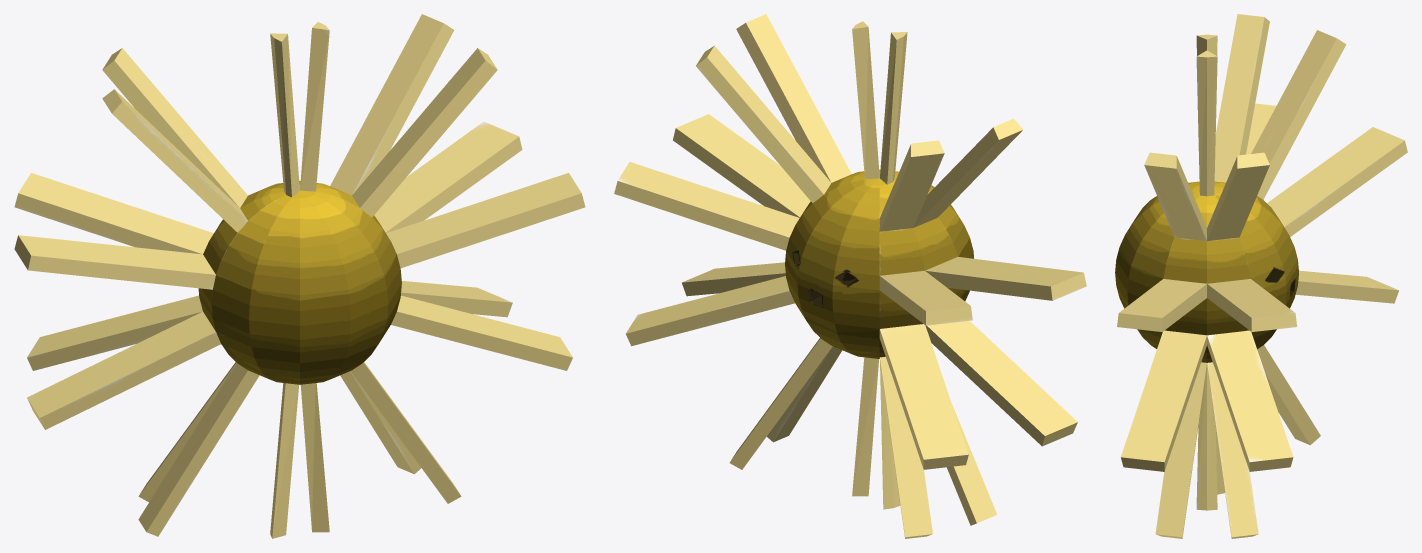
The model's file is center_final_anim.fbx.
3 renders of one model, left to right at view 1: azimuth 30°, elevation 25°; view 2: azimuth 150°, elevation 25°; view 3: azimuth 270°, elevation 25°, orthographic. The views are drawn at different scales.
Parts seen in each view (by area): view 1: pSphere1; view 2: pSphere1; view 3: pSphere1.
Part boxes in pixels (x1=…): pSphere1: x1=14, y1=14, x2=585, y2=538; pSphere1: x1=614, y1=14, x2=1086, y2=538; pSphere1: x1=1115, y1=14, x2=1407, y2=538.
Bounding box in the file's own units: 5.6 × 5.46 × 3.18.
